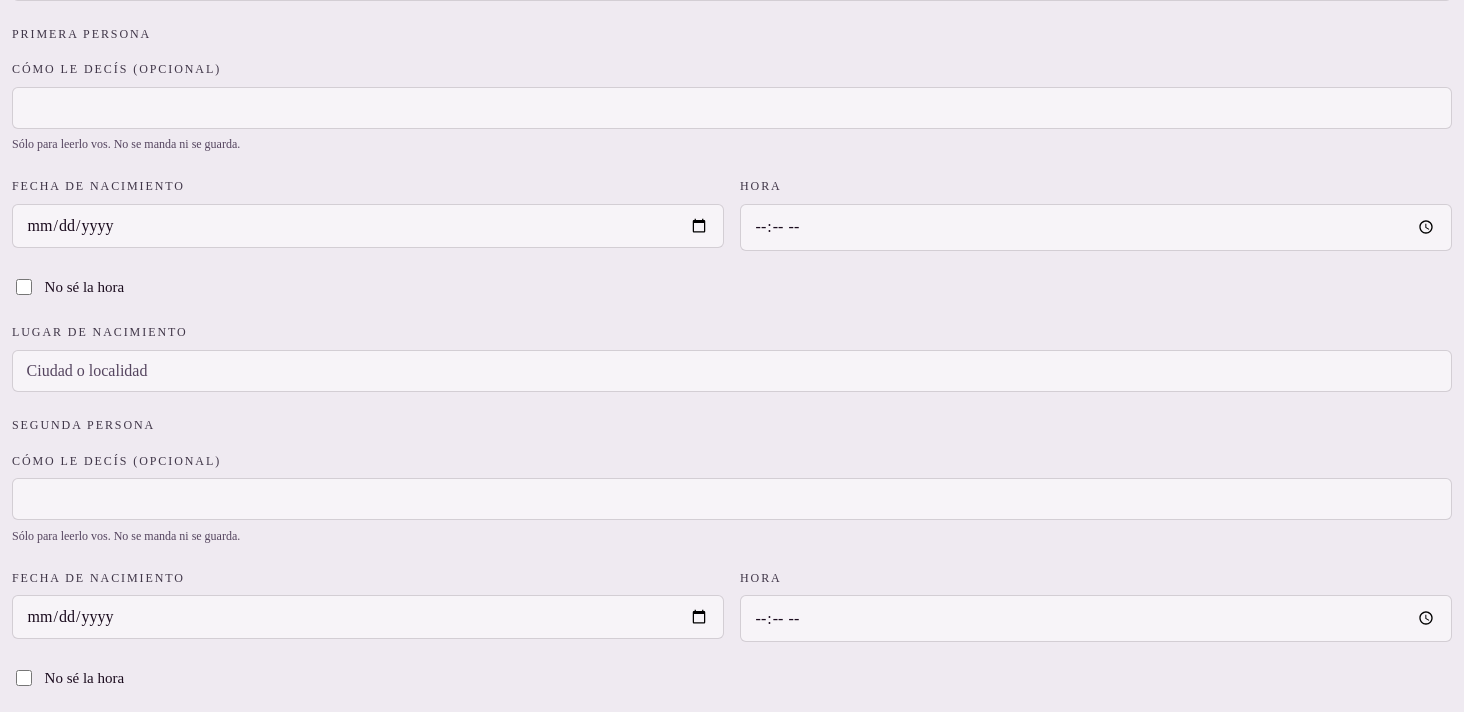
Scenario: VinculoForm › un motivo que el servidor inventa se reduce a no_disponible
Type "1976-05-31" into the date field labelled "Fecha de nacimiento" below "Primera persona" at (368, 226), box [12,204,724,248]
Type "rosario" into the field labelled "Lugar de nacimiento" at (732, 371), box [12,350,1452,392]
Wait 400 ms
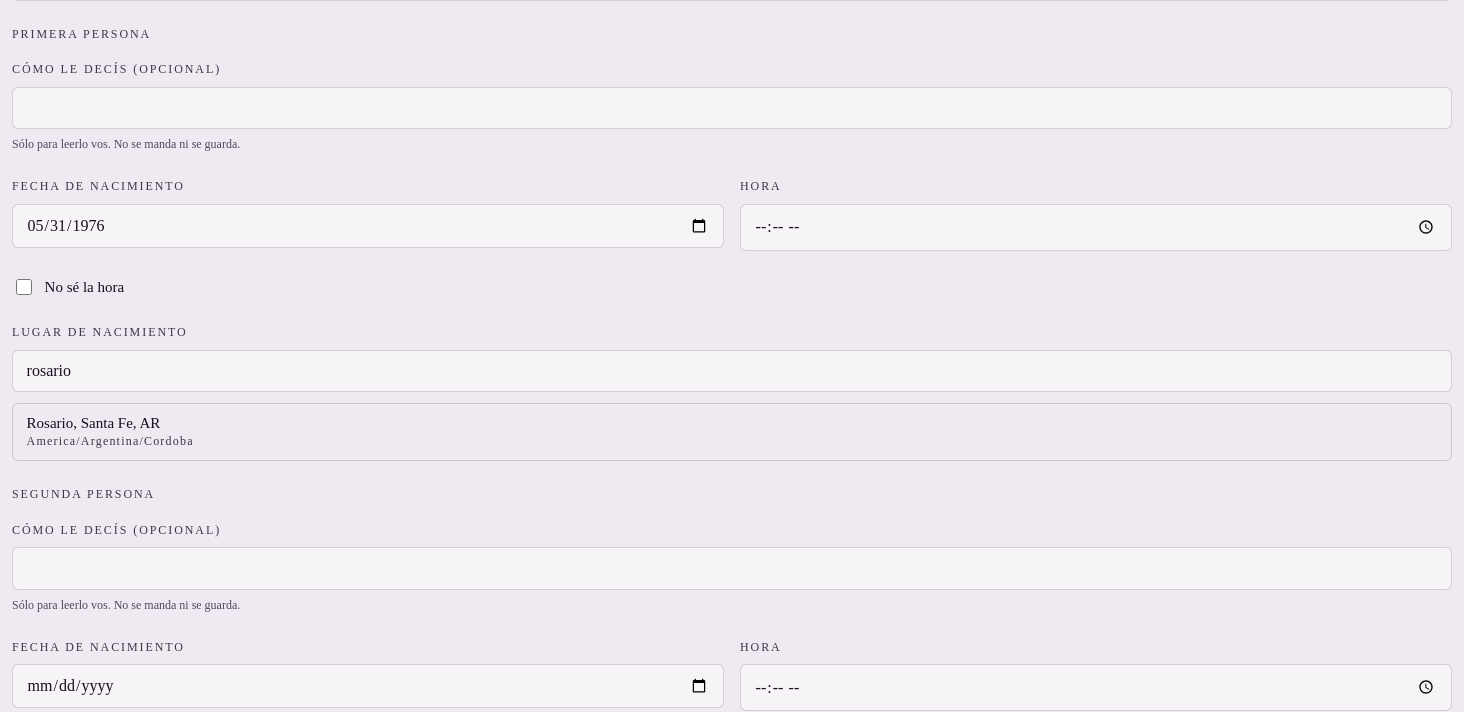
Click the button "Rosario, Santa Fe, AR America/Argentina/Cordoba" at (93, 423), box [13,404,1451,460]
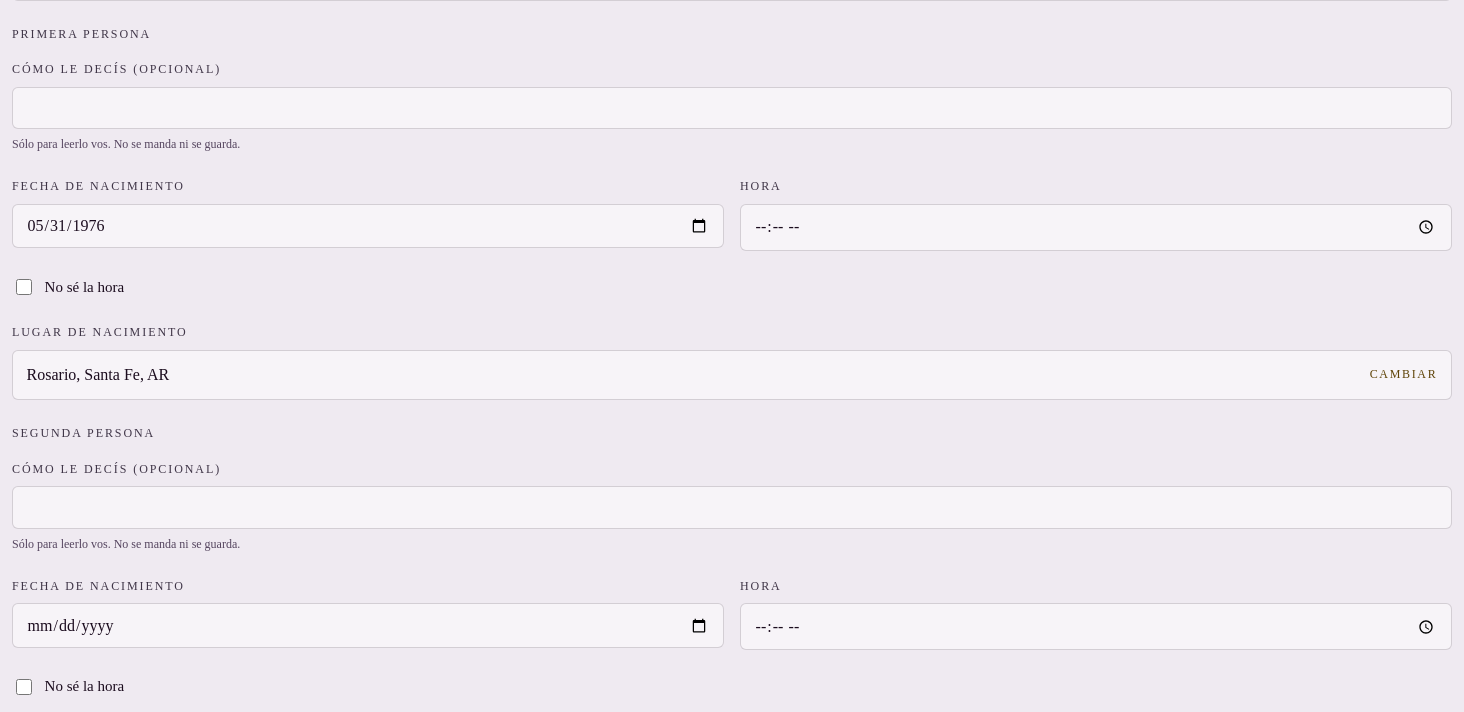
Type "1980-11-02" into the date field labelled "Fecha de nacimiento" below "Segunda persona" at (368, 626), box [12,603,724,648]
(page scrolled)
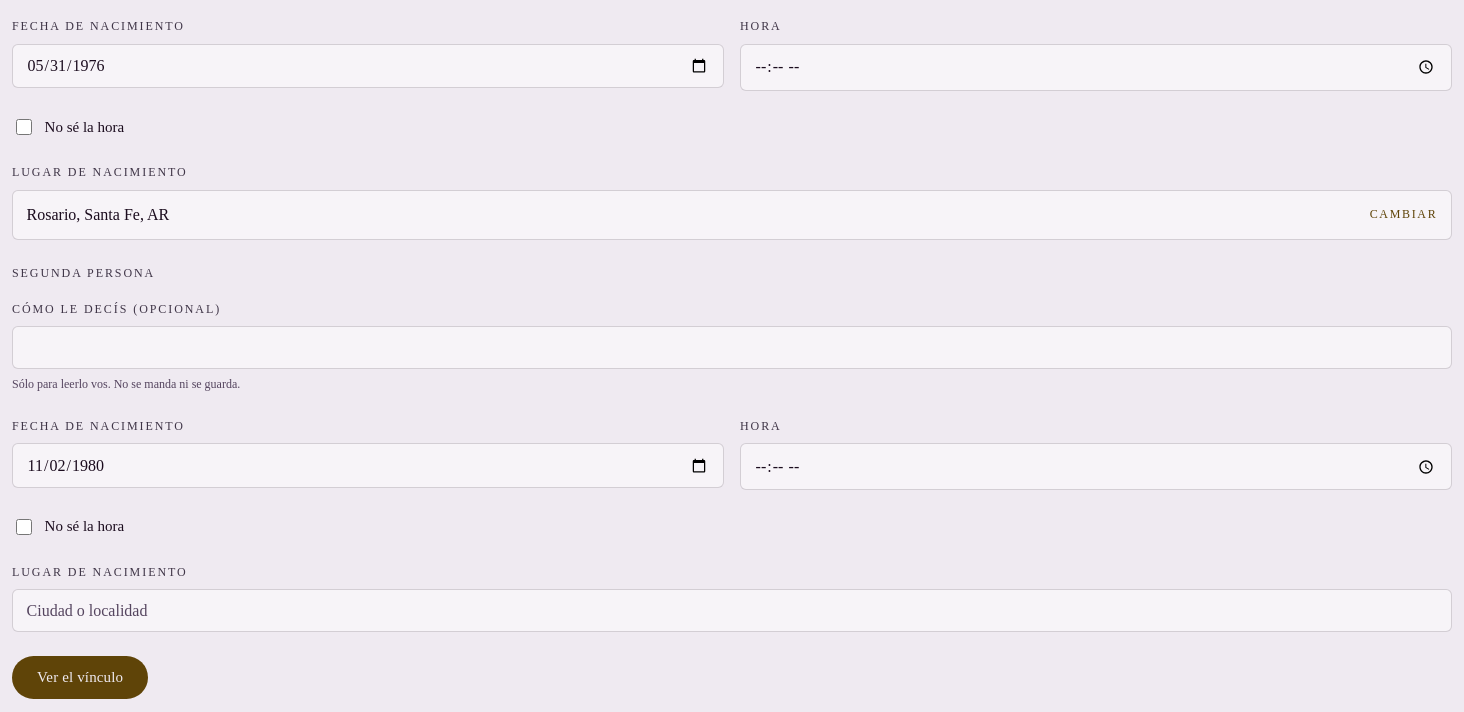
Type "rosario" into the field labelled "Lugar de nacimiento" at (732, 611), box [12,589,1452,632]
Wait 400 ms
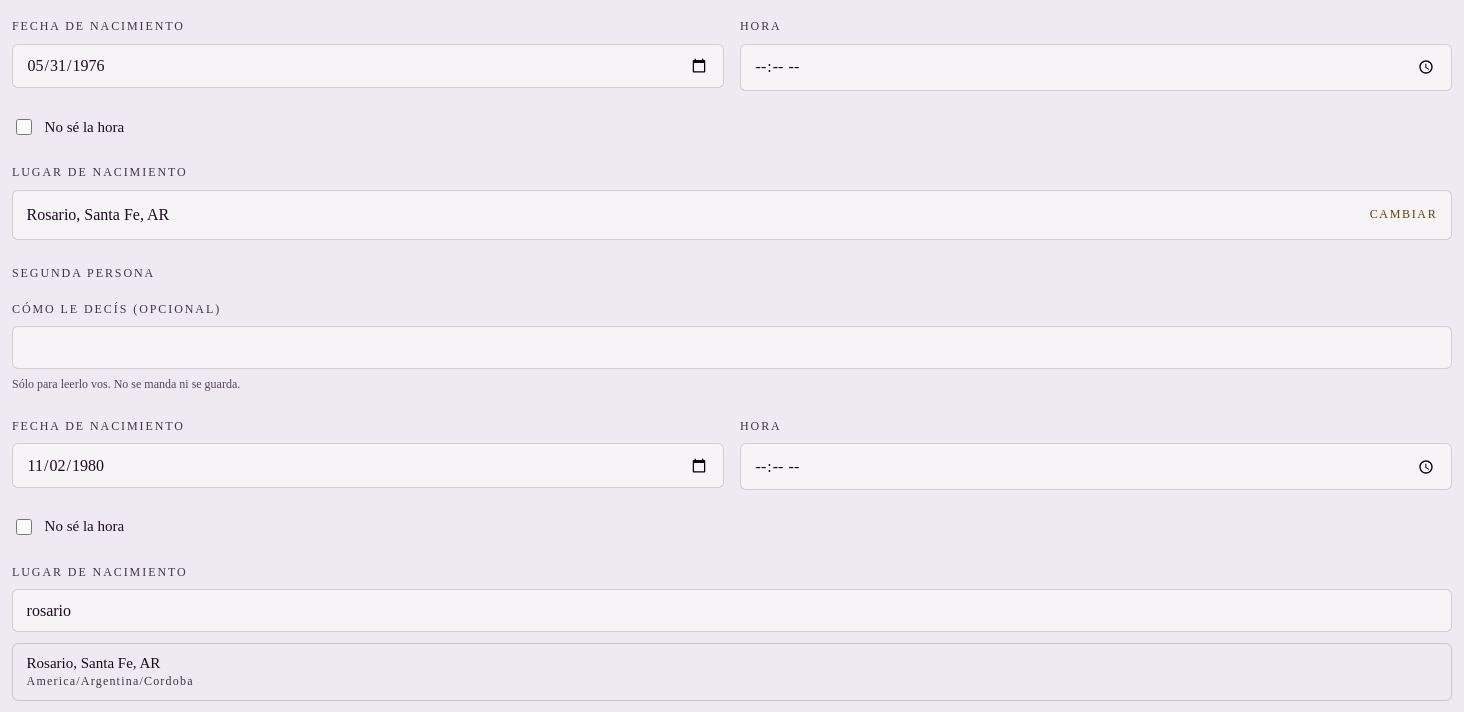
Click the button "Rosario, Santa Fe, AR America/Argentina/Cordoba" at (93, 663), box [13,644,1451,700]
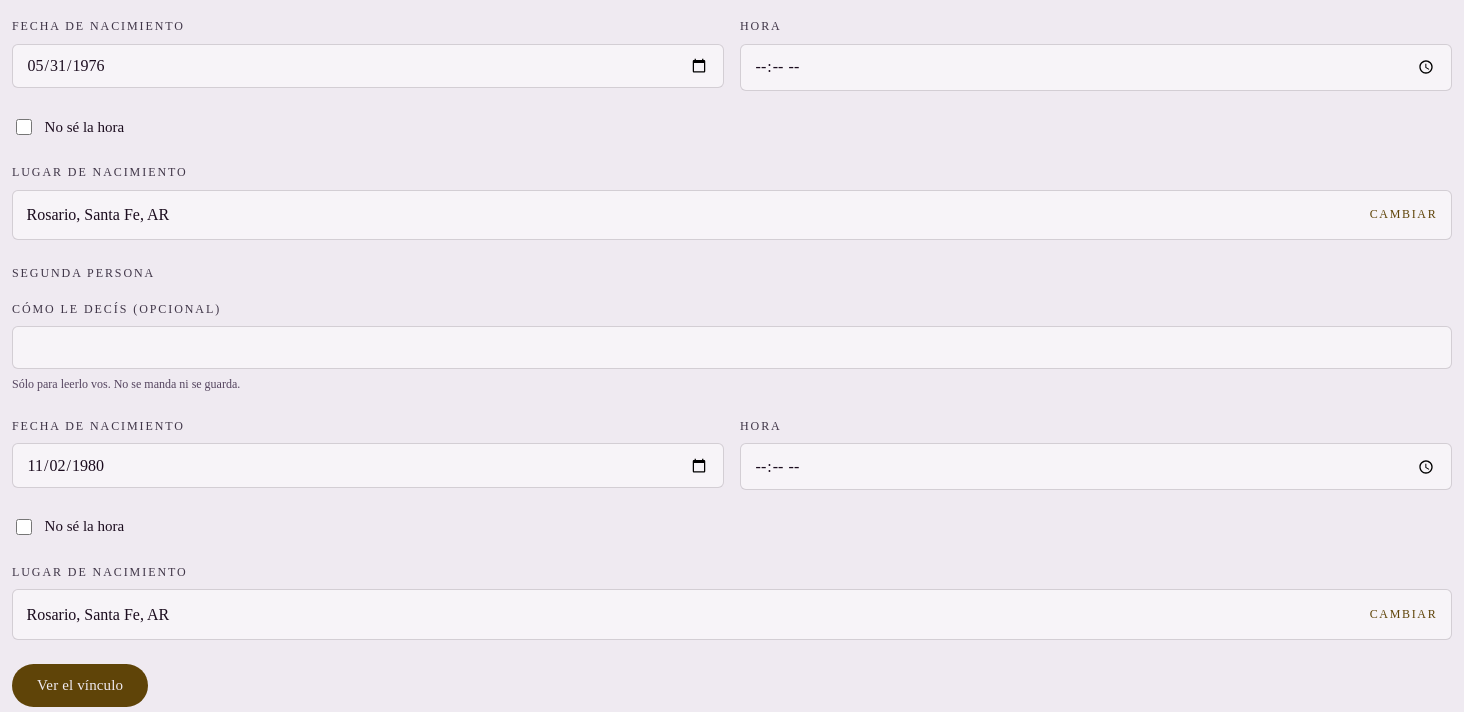
Click the button "Ver el vínculo" at (80, 686), box [12,664,148,707]
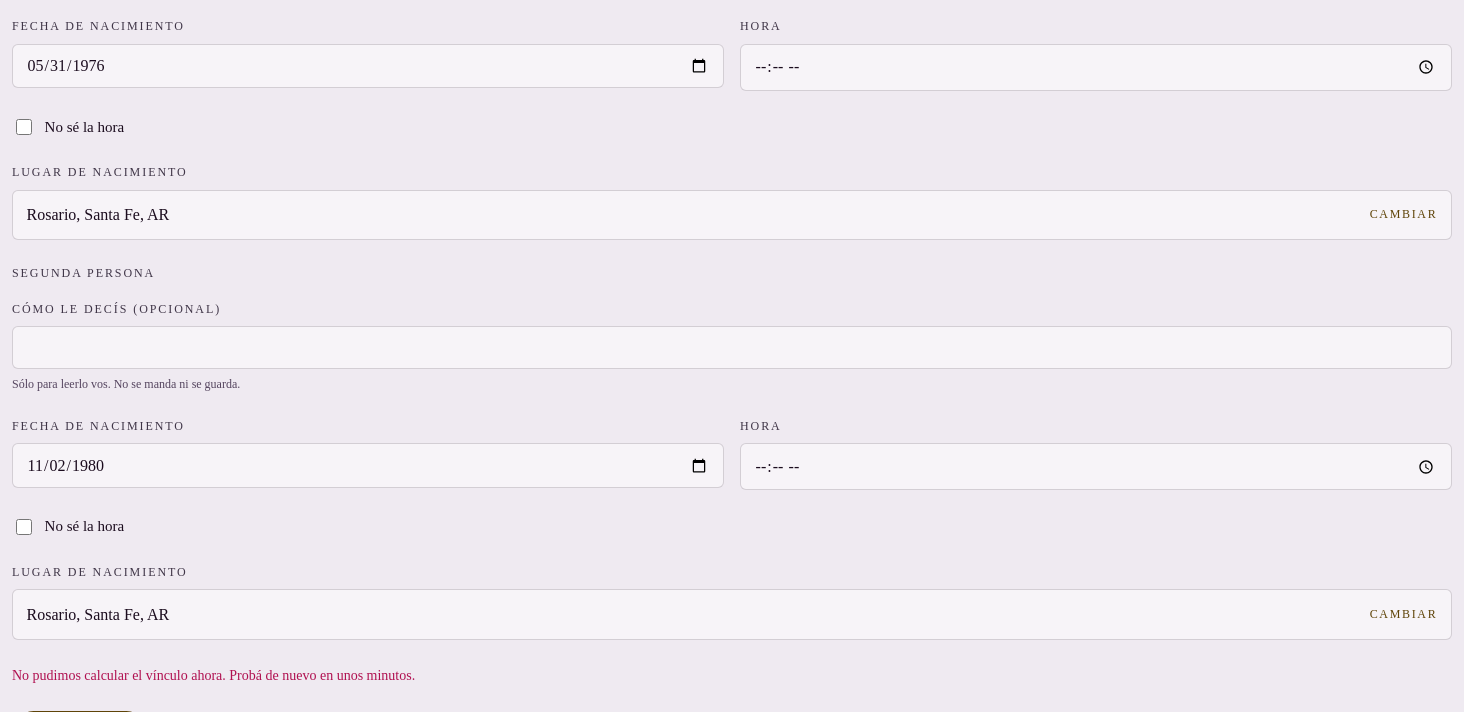
Check: the message reads "No pudimos calcular el vínculo ahora. Probá de nuevo en unos minutos.", box [12,668,415,683]
